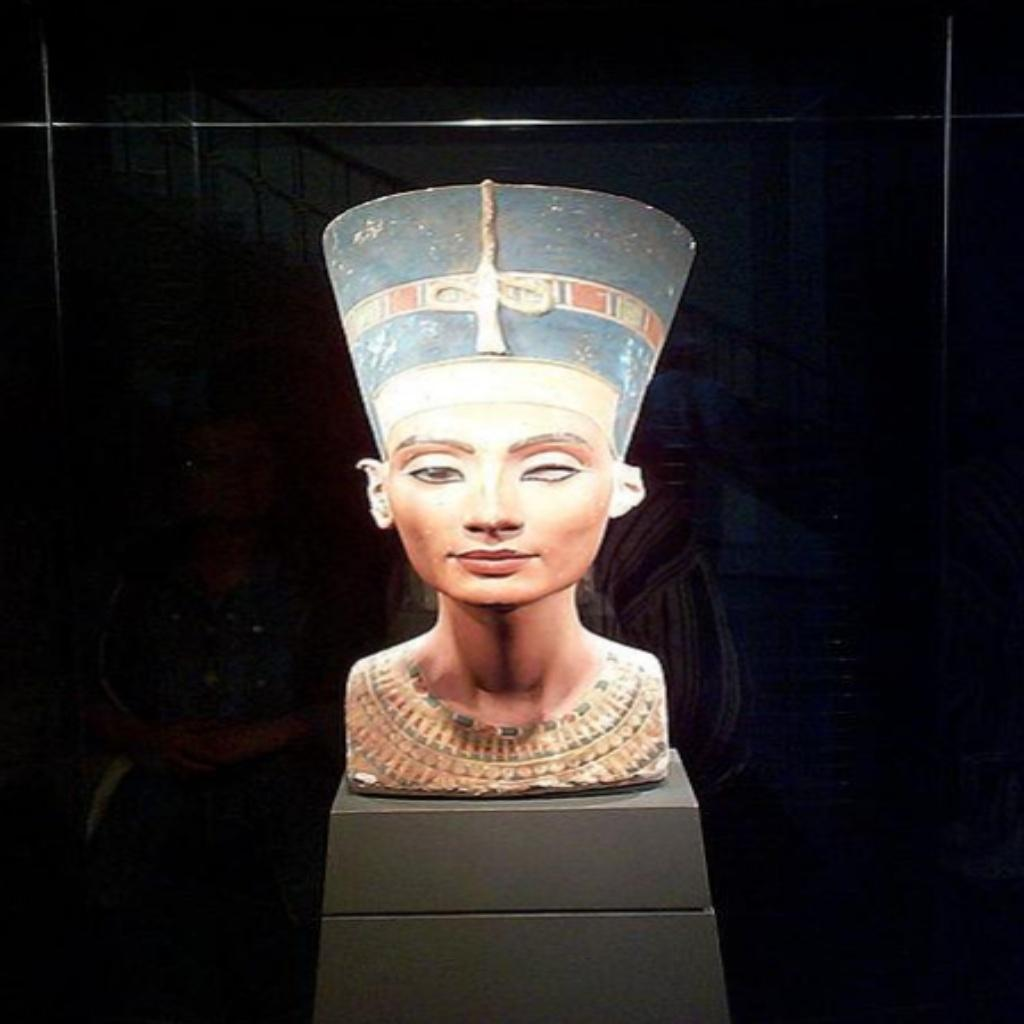Nefertiti: (314, 176, 701, 799)
